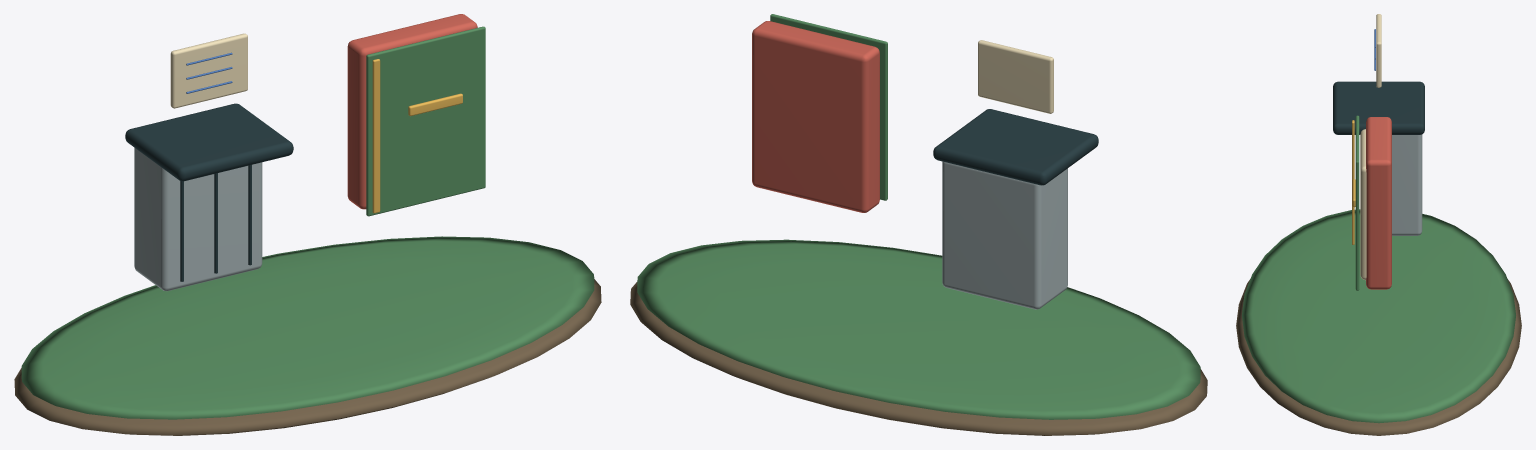
File: complete-second-lost-memory.glb
3 renders of one model, left to right at view 1: azimuth 30°, elevation 25°; view 2: azimuth 150°, elevation 25°; view 3: azimuth 270°, elevation 25°, orthographic. The views are drawn at different scales.
Parts seen in each view (by area): view 1: complete-second-lost-memory_surface_01, complete-second-lost-memory_surface_02, complete-second-lost-memory_surface_00, complete-second-lost-memory_surface_03, complete-second-lost-memory_surface_04, complete-second-lost-memory_surface_05, complete-second-lost-memory_surface_06; view 2: complete-second-lost-memory_surface_01, complete-second-lost-memory_surface_04, complete-second-lost-memory_surface_02, complete-second-lost-memory_surface_00, complete-second-lost-memory_surface_03, complete-second-lost-memory_surface_05; view 3: complete-second-lost-memory_surface_01, complete-second-lost-memory_surface_00, complete-second-lost-memory_surface_04, complete-second-lost-memory_surface_03, complete-second-lost-memory_surface_02, complete-second-lost-memory_surface_05, complete-second-lost-memory_surface_06.
Boxes of the visible parts, x1=… form: complete-second-lost-memory_surface_01: x1=21, y1=26, x2=594, y2=419; complete-second-lost-memory_surface_02: x1=134, y1=148, x2=262, y2=291; complete-second-lost-memory_surface_00: x1=14, y1=279, x2=601, y2=435; complete-second-lost-memory_surface_03: x1=125, y1=103, x2=293, y2=281; complete-second-lost-memory_surface_04: x1=347, y1=14, x2=477, y2=209; complete-second-lost-memory_surface_05: x1=170, y1=33, x2=247, y2=108; complete-second-lost-memory_surface_06: x1=372, y1=59, x2=462, y2=213; complete-second-lost-memory_surface_01: x1=637, y1=14, x2=1200, y2=419; complete-second-lost-memory_surface_04: x1=752, y1=21, x2=879, y2=212; complete-second-lost-memory_surface_02: x1=942, y1=161, x2=1067, y2=309; complete-second-lost-memory_surface_00: x1=630, y1=282, x2=1207, y2=435; complete-second-lost-memory_surface_03: x1=933, y1=109, x2=1098, y2=185; complete-second-lost-memory_surface_05: x1=978, y1=40, x2=1053, y2=113; complete-second-lost-memory_surface_01: x1=1242, y1=115, x2=1515, y2=423; complete-second-lost-memory_surface_00: x1=1236, y1=279, x2=1521, y2=435; complete-second-lost-memory_surface_04: x1=1366, y1=117, x2=1391, y2=289; complete-second-lost-memory_surface_03: x1=1333, y1=81, x2=1424, y2=134; complete-second-lost-memory_surface_02: x1=1392, y1=134, x2=1422, y2=235; complete-second-lost-memory_surface_05: x1=1360, y1=14, x2=1381, y2=280; complete-second-lost-memory_surface_06: x1=1352, y1=120, x2=1355, y2=244.
Bounding box in the file's own units: 4.56 × 2.63 × 2.5.
